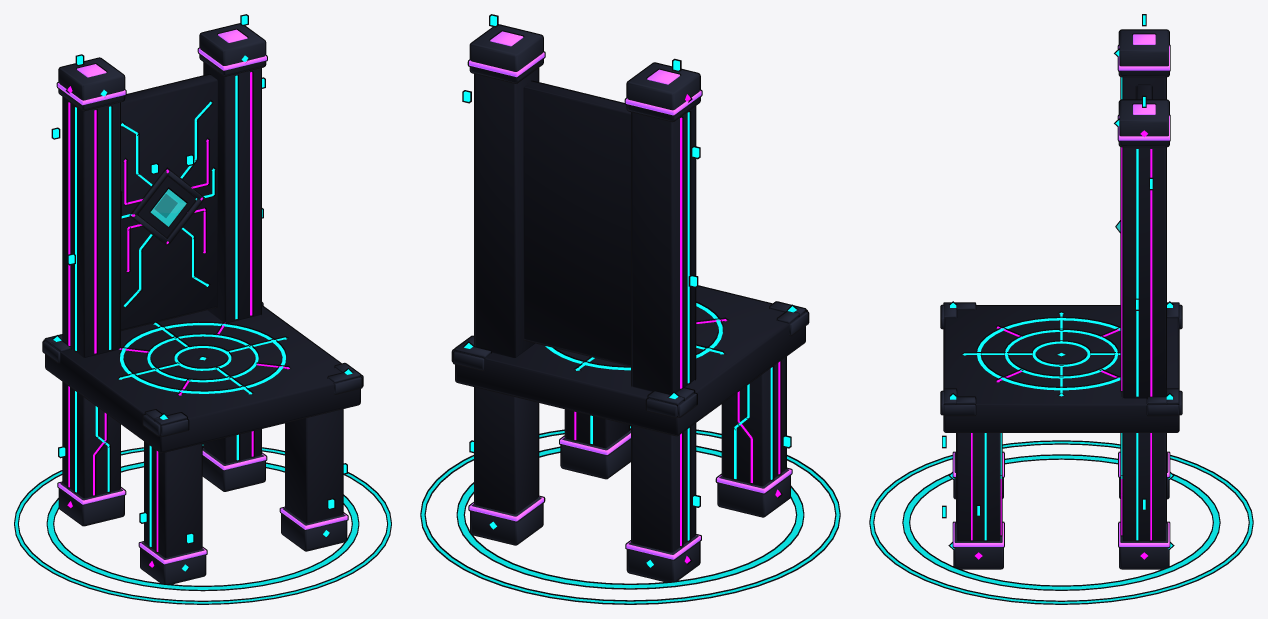
File: CyberCoreChair.glb
3 views of the same model, side by side, from view 1: azimuth 30°, elevation 25°; view 2: azimuth 150°, elevation 25°; view 3: azimuth 270°, elevation 25° (orthographic). The views are drawn at different scales.
Visible parts, largest first — view 1: Seat, Backrest_Panel, Post_L, Post_R, Circuits_Neon_Cyan, Hologram_Floor_Ring, Leg_FR, Leg_FL, Circuits_Neon_Magenta, Leg_BL, MetalCap_Post_R, MetalCap_Post_L (+11 smaller); view 2: Backrest_Panel, Seat, Post_L, Post_R, Hologram_Floor_Ring, Leg_BR, Leg_BL, Leg_FL, Circuits_Neon_Cyan, MetalCap_Post_R, MetalCap_Post_L, Seat_Corner_Brackets (+9 smaller); view 3: Seat, Post_R, Hologram_Floor_Ring, Circuits_Neon_Cyan, Leg_BR, Leg_FR, Circuits_Neon_Magenta, Seat_Corner_Brackets, MetalCap_Post_L, MetalCap_Post_R, MetalCap_Leg_BR, MetalCap_Leg_FR (+4 smaller).
Part boxes in pixels (x1,y1,x2,y2): Seat: (45,305,360,453); Backrest_Panel: (121,74,217,330); Post_L: (62,96,120,357); Post_R: (203,62,261,322); Circuits_Neon_Cyan: (73,74,286,548); Hologram_Floor_Ring: (14,443,391,604); Leg_FR: (285,409,343,523); Leg_FL: (144,441,202,557); Circuits_Neon_Magenta: (67,71,289,553); Leg_BL: (62,381,120,498); MetalCap_Post_R: (199,23,266,76); MetalCap_Post_L: (58,57,125,111); Backrest_Panel: (523,80,630,366); Seat: (455,285,805,436); Post_L: (631,106,696,394); Post_R: (474,68,539,358); Hologram_Floor_Ring: (420,425,840,604); Leg_BR: (474,387,539,514); Leg_BL: (631,423,696,552); Leg_FL: (721,356,786,486); Circuits_Neon_Cyan: (545,110,774,542); MetalCap_Post_R: (469,24,543,83); MetalCap_Post_L: (626,62,700,122); Seat_Corner_Brackets: (451,301,809,418); Seat: (943,305,1179,432); Post_R: (1121,146,1166,398); Hologram_Floor_Ring: (869,440,1253,604); Circuits_Neon_Cyan: (964,77,1139,541); Leg_BR: (1122,433,1166,541); Leg_FR: (956,433,1000,541); Circuits_Neon_Magenta: (970,147,1152,541); Seat_Corner_Brackets: (940,302,1182,416); MetalCap_Post_L: (1118,29,1169,77); MetalCap_Post_R: (1118,99,1169,147); MetalCap_Leg_BR: (1119,521,1169,569); MetalCap_Leg_FR: (953,521,1003,569).
Size of the model in its own units: 1.11 by 1.5 by 1.11.
